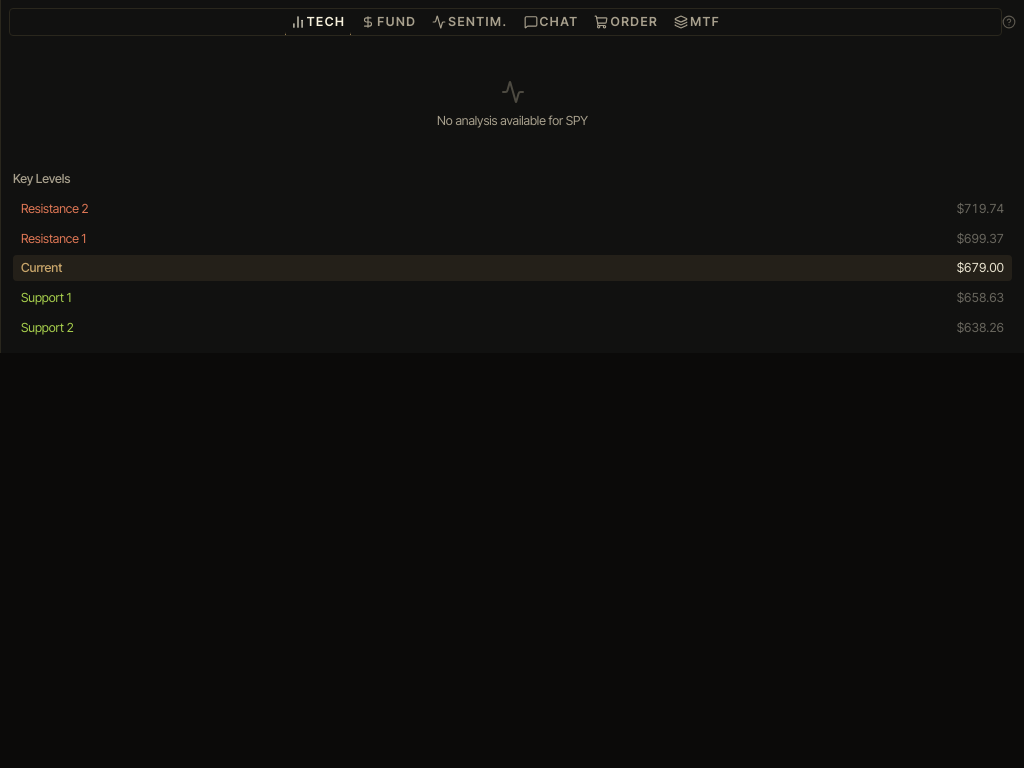
Test: AnalysisPanel › switches to Order tab when clicked
Click the tab "Order".
click(626, 22)  # box left=588, top=6, right=664, bottom=38
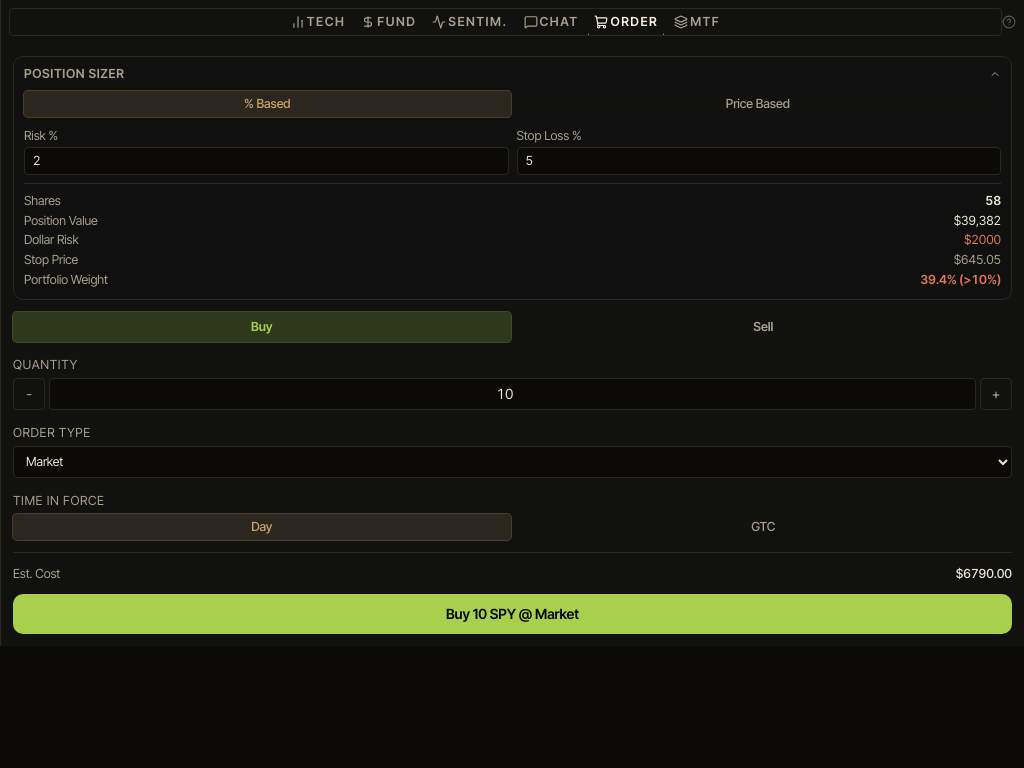
Expected: the button "Buy" is shown, left=13, top=312, right=510, bottom=342
Expected: the button "Sell" is shown, left=514, top=312, right=1012, bottom=342
